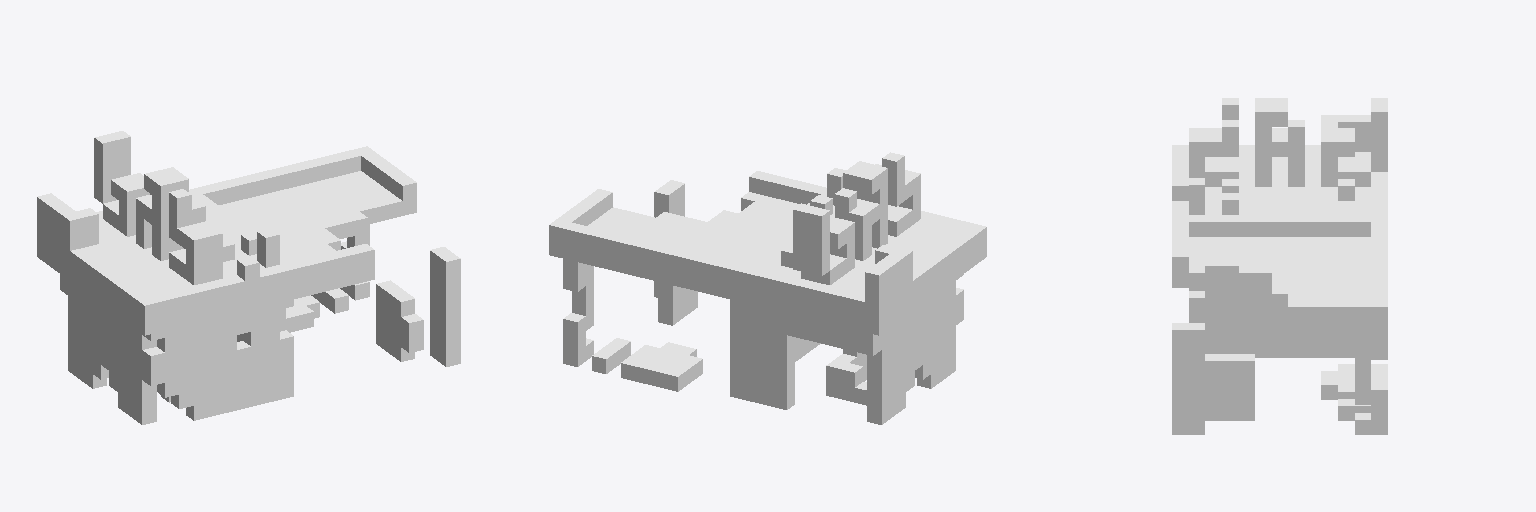
File: GasBroken.obj
3 renders of one model, left to right at view 1: azimuth 30°, elevation 25°; view 2: azimuth 150°, elevation 25°; view 3: azimuth 270°, elevation 25°, orthographic.
Visible parts, largest first — view 1: GasBroken; view 2: GasBroken; view 3: GasBroken.
Boxes of the visible parts, box(x1,y1,x2,y2) form: GasBroken: box(37, 131, 460, 424); GasBroken: box(549, 152, 986, 424); GasBroken: box(1172, 98, 1387, 434).
Bounding box in the file's own units: 23 × 14 × 13.